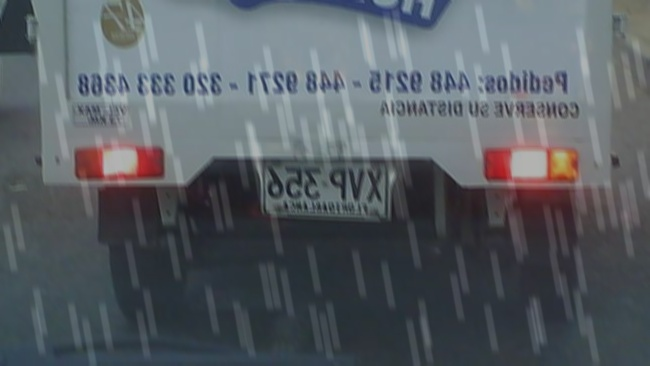placas: (260, 158, 390, 220)
